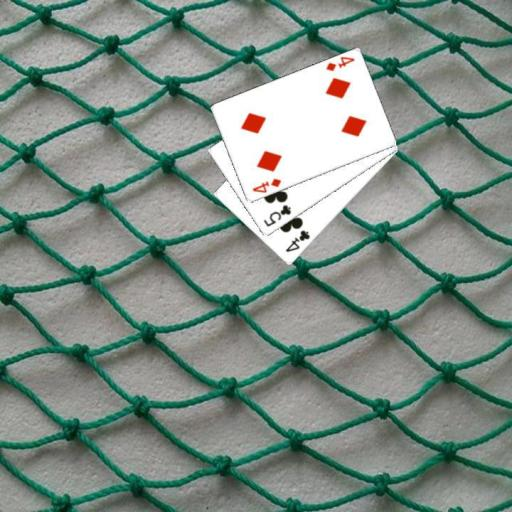4C: (283, 227, 312, 254)
4D: (322, 54, 356, 73), (249, 176, 282, 195)
5C: (261, 202, 293, 229)
